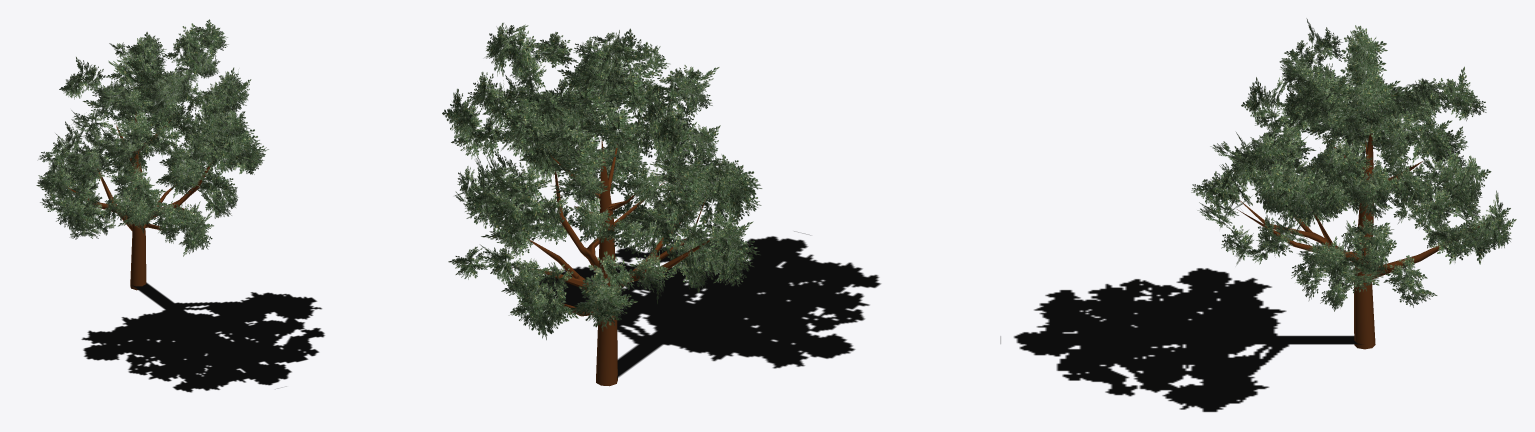
Rendered from tree.glb.
3 views of the same model, side by side, from view 1: azimuth 30°, elevation 25°; view 2: azimuth 150°, elevation 25°; view 3: azimuth 270°, elevation 25° (orthographic). The views are drawn at different scales.
Parts seen in each view (by area): view 1: leaves, shadow, trunk; view 2: leaves, shadow, trunk; view 3: leaves, shadow, trunk.
Part boxes in pixels (x1,y1,x2,y2): leaves: [36, 19, 268, 256]; shadow: [81, 282, 324, 392]; trunk: [68, 112, 212, 290]; leaves: [442, 22, 762, 340]; shadow: [535, 231, 880, 378]; trunk: [512, 140, 714, 386]; leaves: [1191, 18, 1516, 311]; shadow: [1000, 268, 1362, 411]; trunk: [1237, 133, 1484, 349].
Bounding box in the file's own units: 14 × 13.85 × 19.94.
Materials: 3 (2 with a texture image).
